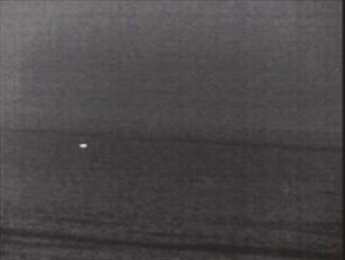Target: (80, 144, 88, 147)
